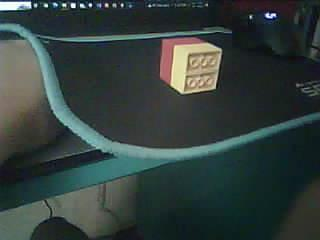lego: (160, 38, 222, 95)
